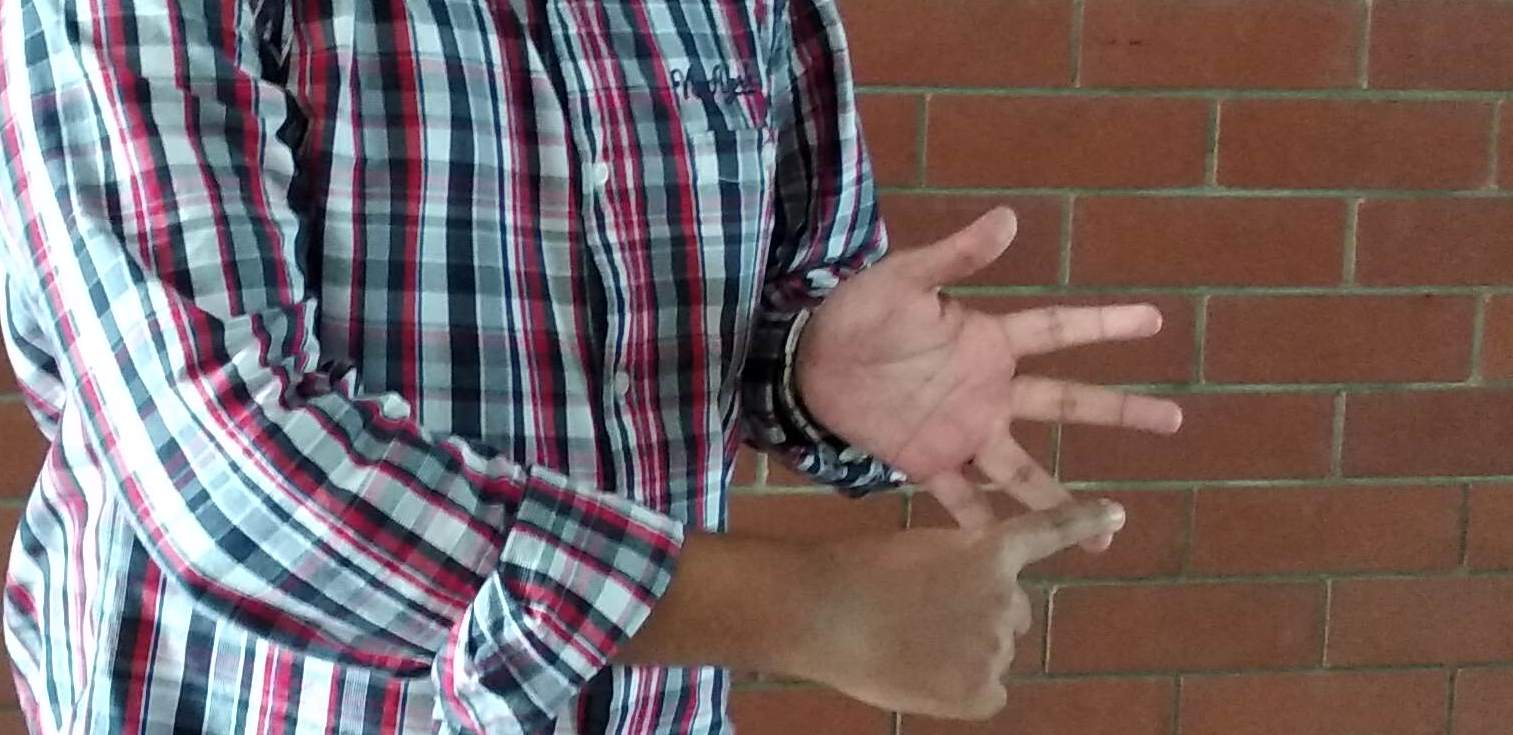e: (884, 245, 1182, 630)
